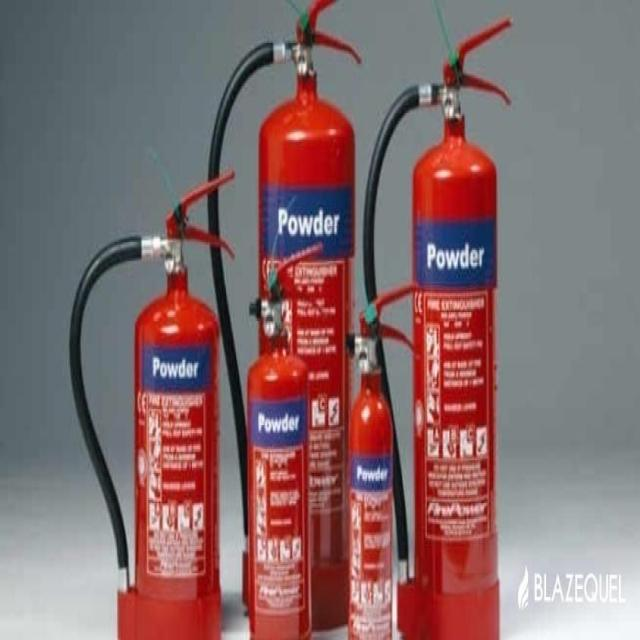Fire-Extinguisher: (360, 14, 513, 640), (206, 0, 351, 640), (66, 171, 238, 640), (247, 244, 325, 640), (344, 282, 420, 640)
